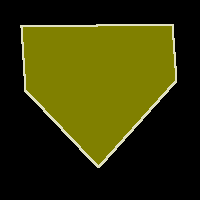tie: (21, 24, 176, 167)
